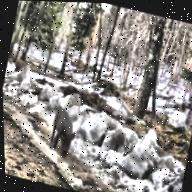boar: (45, 105, 80, 158)
